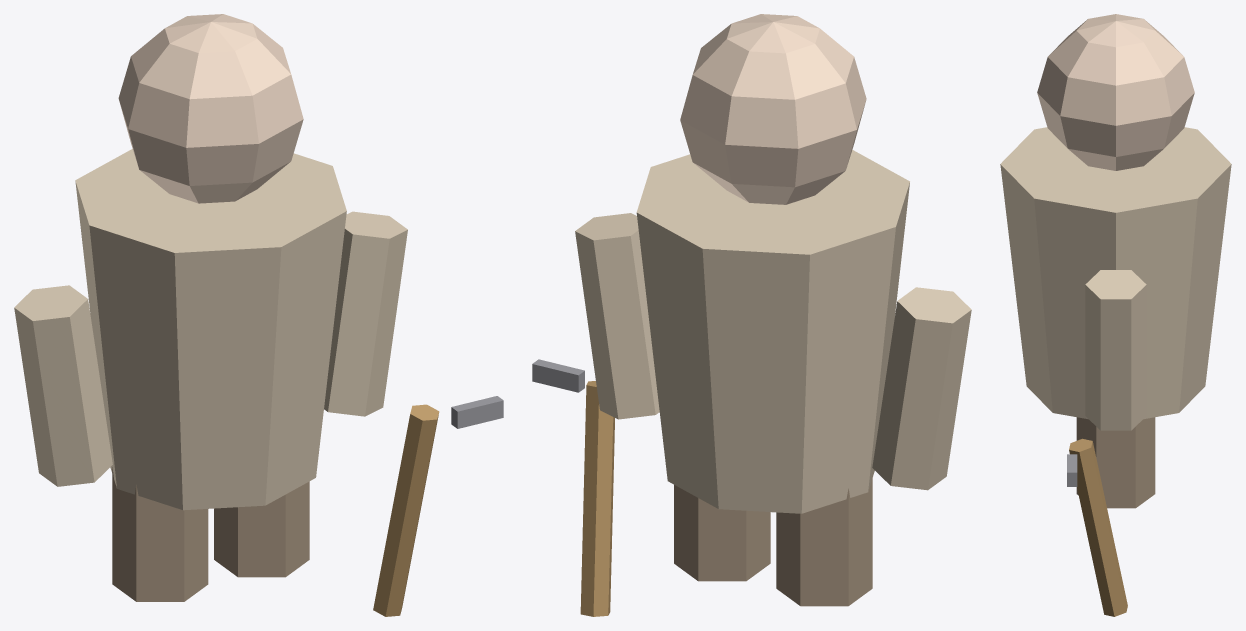
Rendered from stonemason.glb.
3 views of the same model, side by side, from view 1: azimuth 30°, elevation 25°; view 2: azimuth 150°, elevation 25°; view 3: azimuth 270°, elevation 25° (orthographic). The views are drawn at different scales.
Parts seen in each view (by area): view 1: stonemason; view 2: stonemason; view 3: stonemason.
Boxes of the visible parts, x1,y1,x2,y2 form: stonemason: (14,14,503,616); stonemason: (532,14,971,616); stonemason: (1000,14,1231,616).
Bounding box in the file's own units: 0.4884 × 0.6558 × 0.264.
